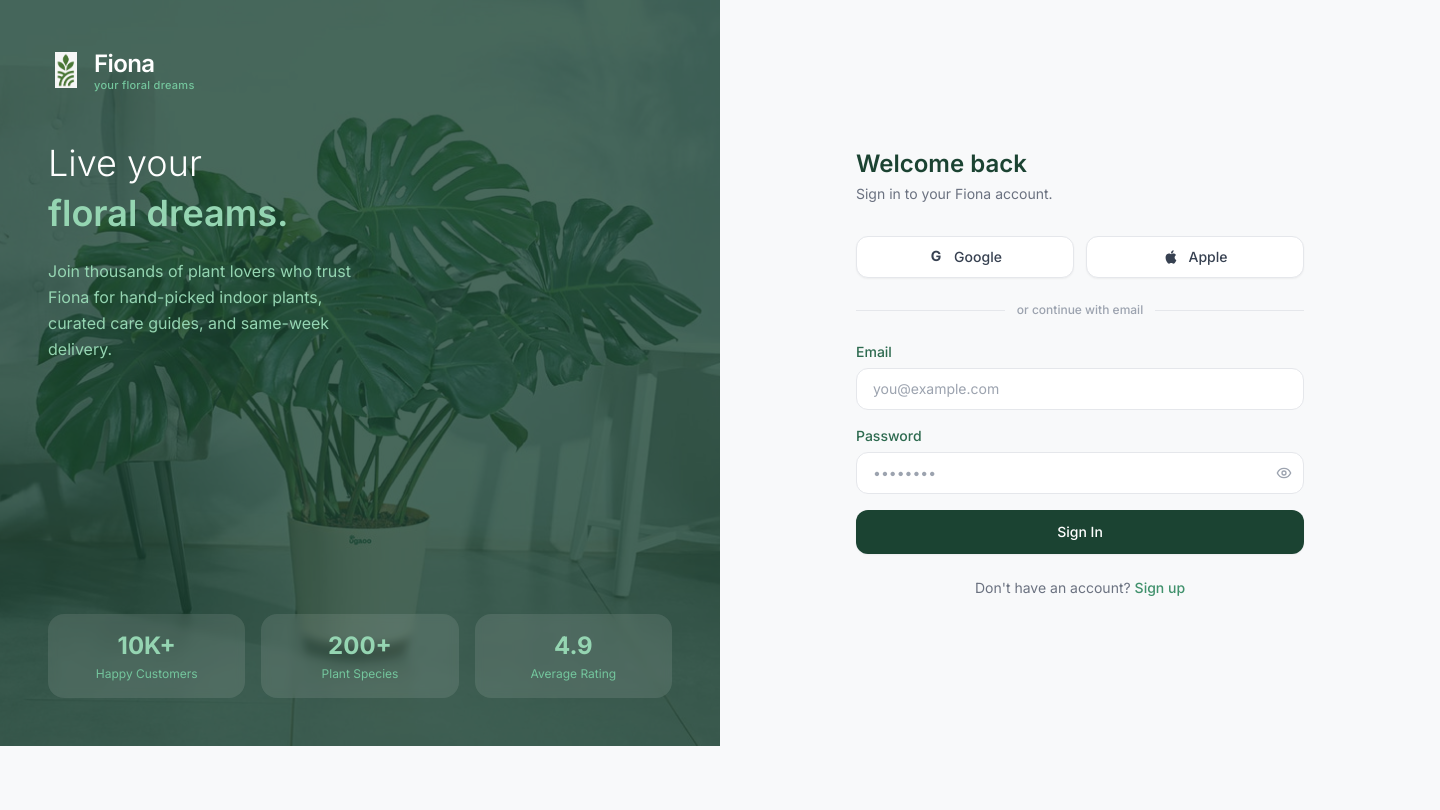
Authentication & Security Boundary Exceptions - AuthPage.tsx › EX-AUTH-01: Login with 400 Invalid login credentials › catches invalid credentials error, displays "Invalid email or password" inline alert, and leaves form populated
The image size is (1440, 810).
// Populate form
Type "testuser@example.com" into the field with placeholder "you@example.com".
click(1080, 389); type("testuser@example.com")  # box 856,368 -> 1304,410
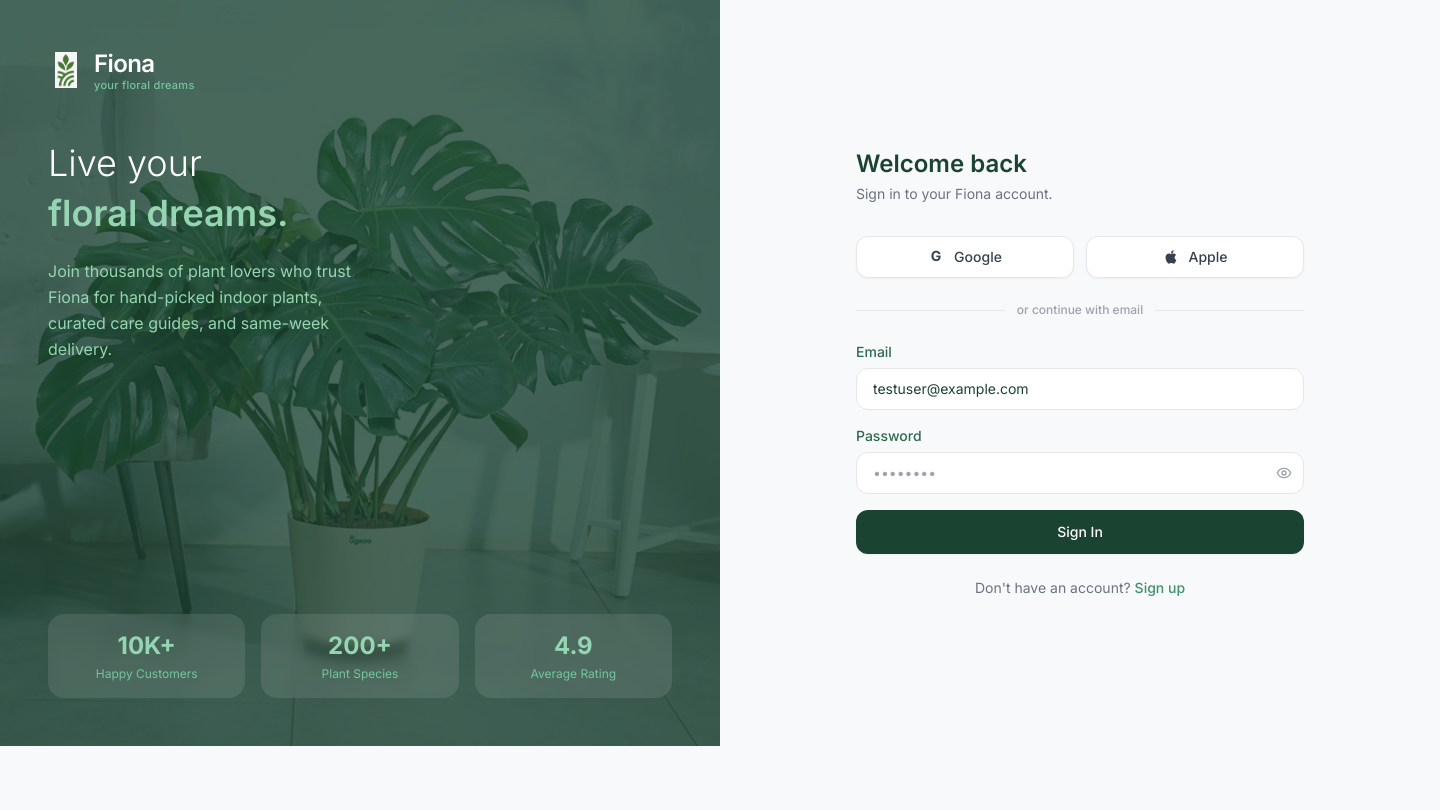
Type "wrongpassword" into the password field with placeholder "••••••••".
click(1080, 473); type("wrongpassword")  # box 856,452 -> 1304,494
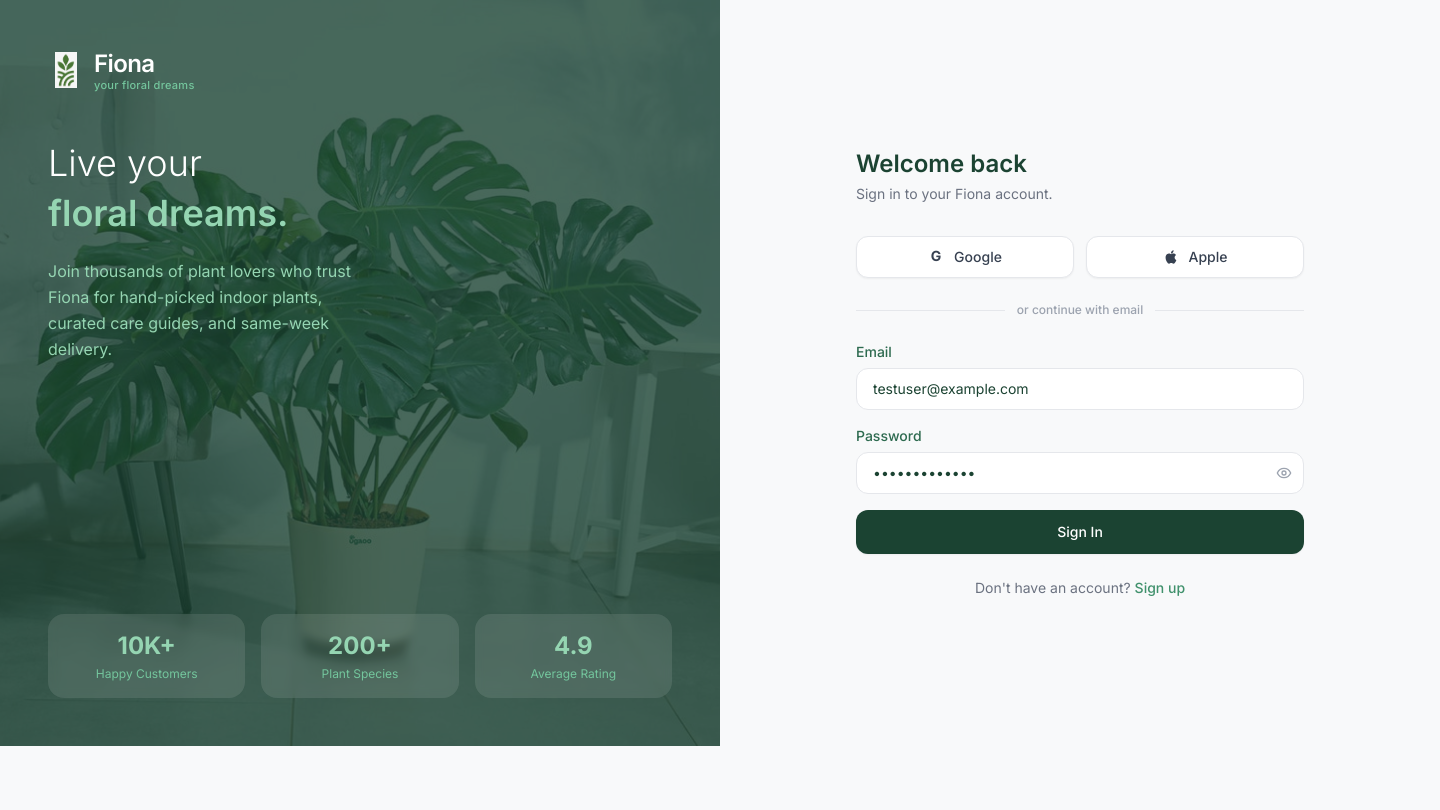
// Submit form
Click the button "Sign In".
click(1080, 532)  # box 856,510 -> 1304,554
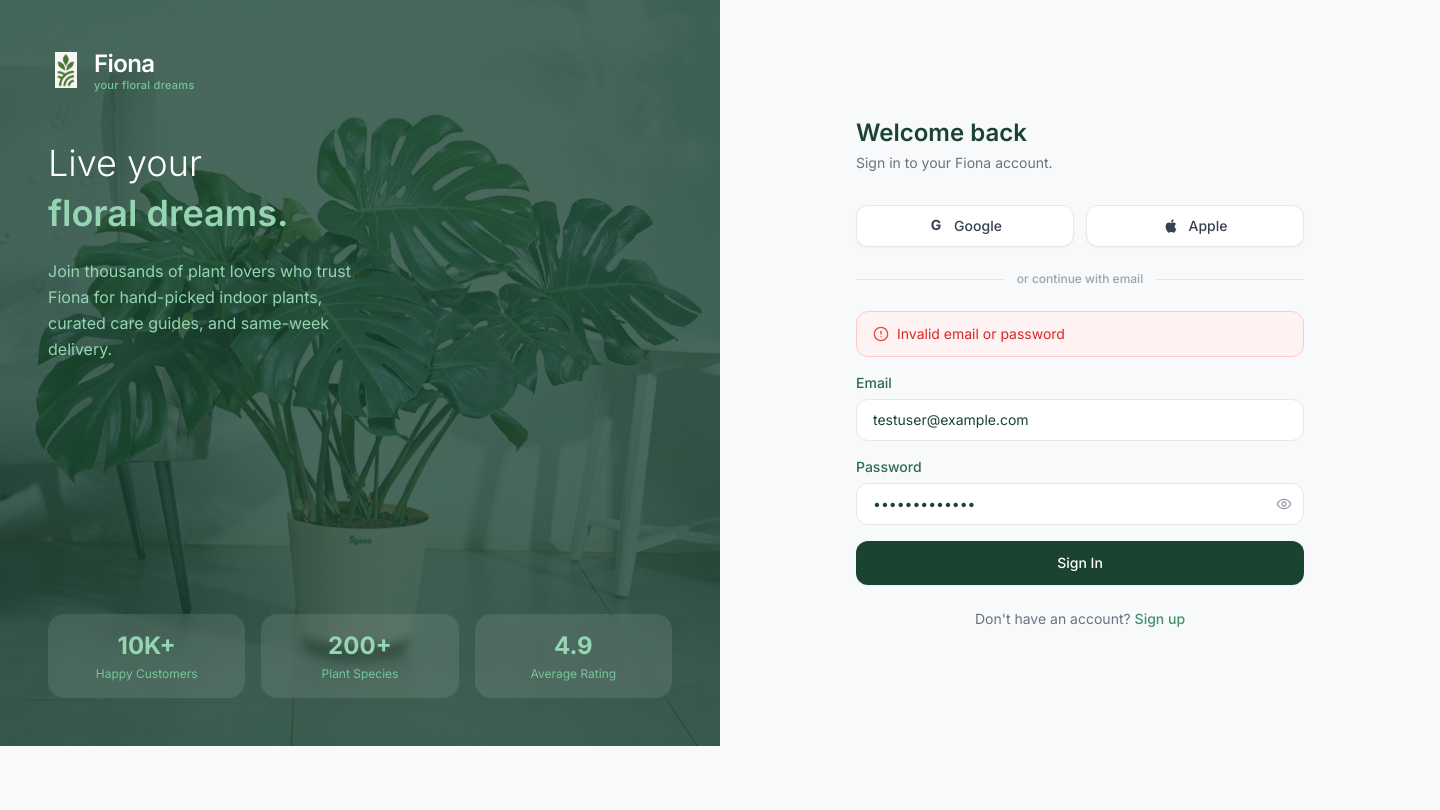
Expected: the button "Sign In" is enabled, 856,541 -> 1304,585
Expected: the message "Invalid email or password" is shown, 856,311 -> 1304,357
Expected: the text "Invalid email or password" is shown, 897,324 -> 1065,344
